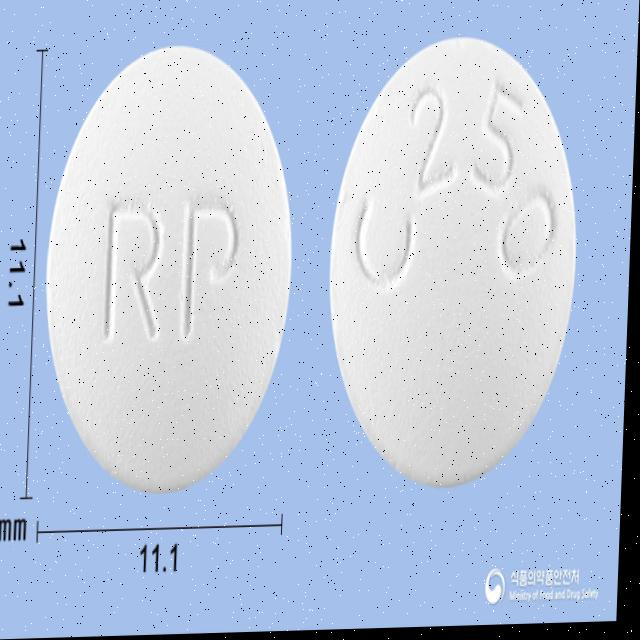Claric: (326, 36, 586, 495), (42, 43, 301, 500)
